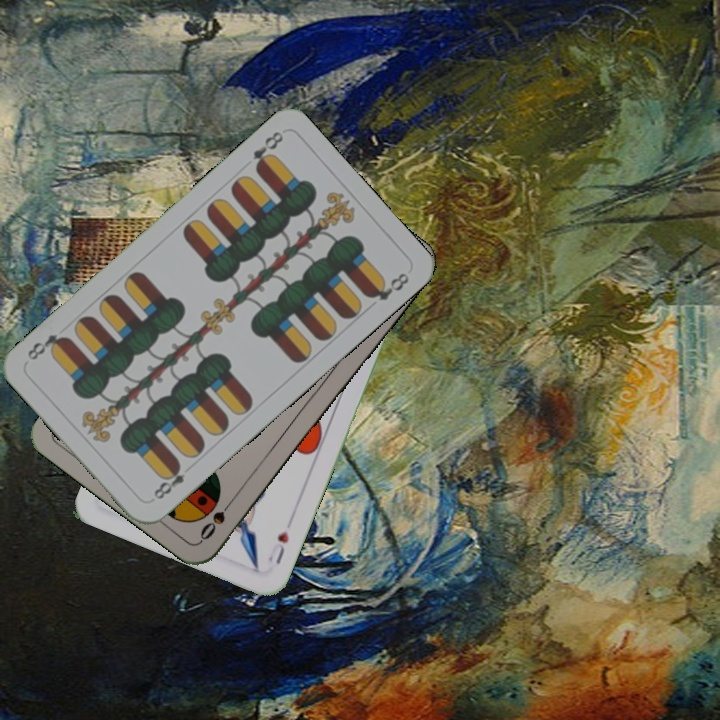E8: (248, 127, 286, 174), (149, 458, 187, 502)
HU: (263, 527, 292, 567)
SO: (196, 492, 238, 543)
